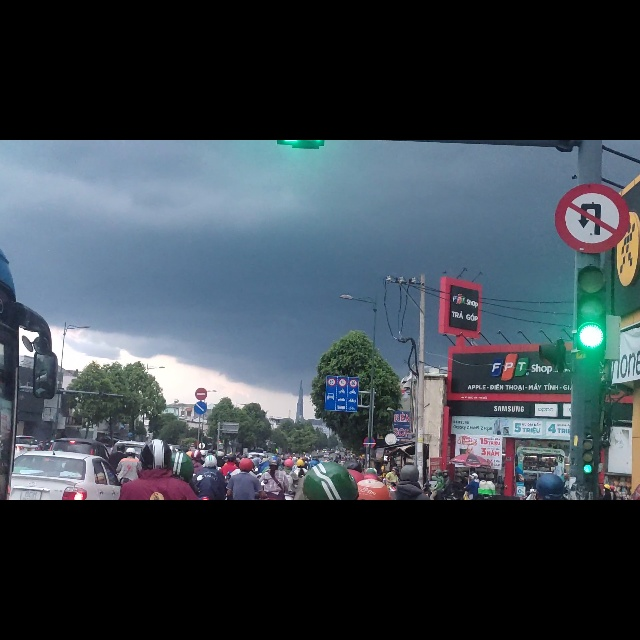bien_chi_dan: (553, 72, 631, 201), (324, 416, 359, 482), (194, 464, 208, 488), (195, 440, 207, 463)
